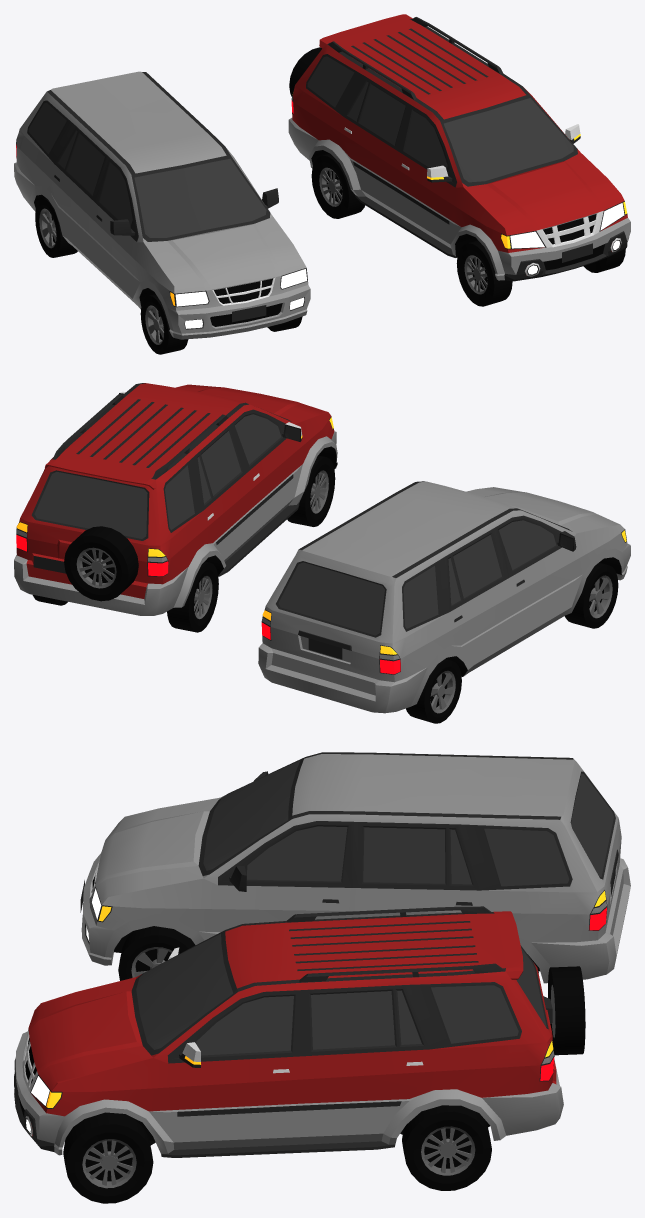
The model's file is mpv.glb.
The picture shows the model from 3 angles, top to bottom: view 1: azimuth 30°, elevation 25°; view 2: azimuth 150°, elevation 25°; view 3: azimuth 270°, elevation 25°; orthographic projection. The views are drawn at different scales.
Parts seen in each view (by area): view 1: Cube.001, Cube, wheel.007, wheel.008, wheel.003, wheel.002, wheel.004; view 2: Cube, Cube.001, wheel.002, wheel.003, wheel.008, wheel.007; view 3: Cube.001, Cube, wheel.004, wheel.005, wheel.
Part boxes in pixels (x1,y1,x2,y2): Cube.001: (288,14,630,281); Cube: (14,71,310,339); wheel.007: (456,240,512,306); wheel.008: (311,153,364,218); wheel.003: (140,294,188,354); wheel.002: (35,198,77,257); wheel.004: (583,248,625,272); Cube: (258,481,630,713); Cube.001: (14,383,337,615); wheel.002: (406,659,461,723); wheel.003: (564,562,618,628); wheel.008: (167,561,218,632); wheel.007: (287,455,335,526); Cube.001: (14,906,585,1157); Cube: (80,752,630,983); wheel.004: (63,1112,153,1203); wheel.005: (402,1105,491,1190); wheel: (118,926,195,980).
Size of the model in its own units: 5.47 by 1.83 by 4.91.
